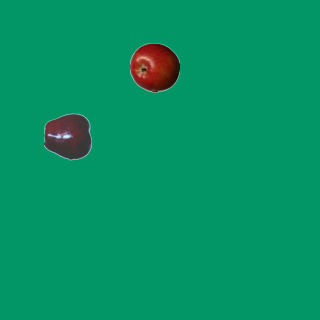Apple Braeburn: (129, 42, 179, 92)
Apple Red Delicious: (43, 111, 93, 161)
